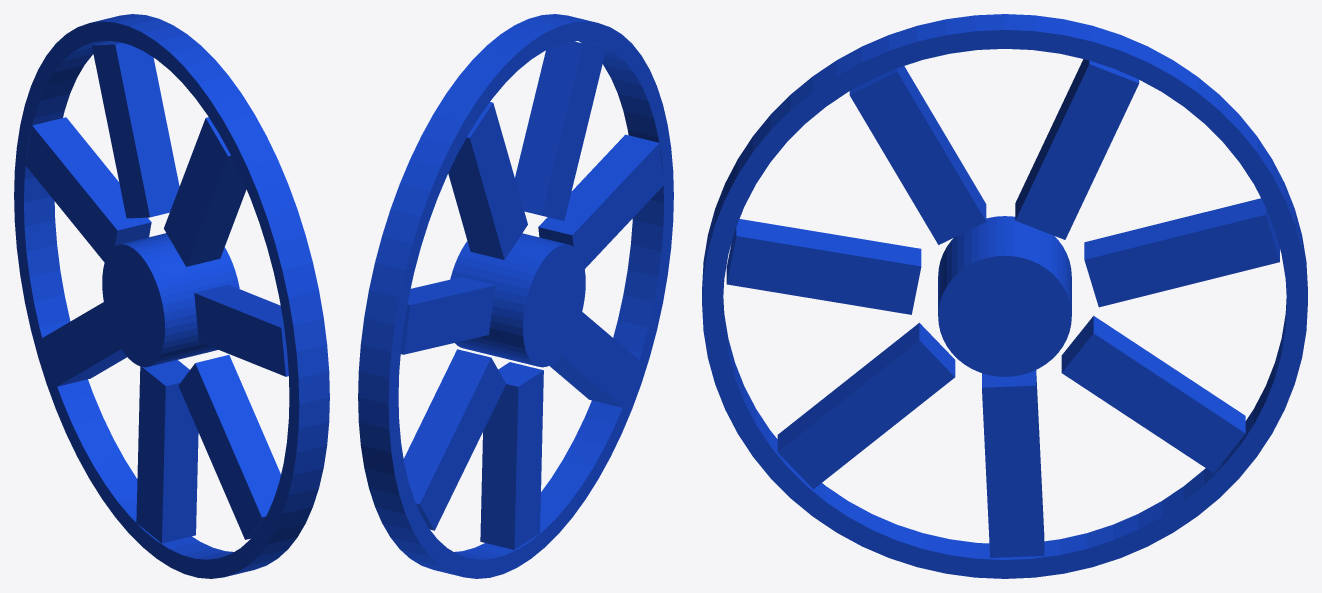
The model's file is fan.obj.
3 views of the same model, side by side, from view 1: azimuth 30°, elevation 25°; view 2: azimuth 150°, elevation 25°; view 3: azimuth 270°, elevation 25° (orthographic). The views are drawn at different scales.
Parts seen in each view (by area): view 1: fan; view 2: fan; view 3: fan.
Boxes of the visible parts, box(x1,y1,x2,y2) form: fan: box(14, 14, 329, 578); fan: box(358, 14, 673, 578); fan: box(702, 14, 1307, 578).
Bounding box in the file's own units: 0.045 × 0.29 × 0.29.
